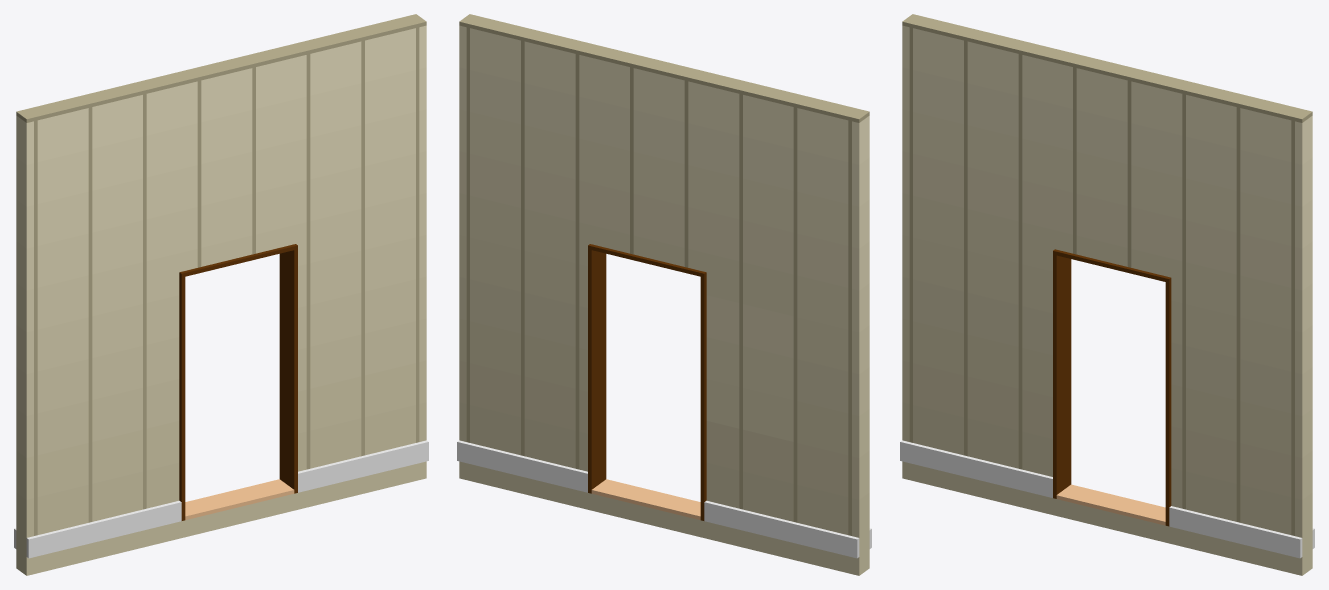
The model's file is wall32.obj.
The picture shows the model from 3 angles, left to right: view 1: azimuth 30°, elevation 25°; view 2: azimuth 150°, elevation 25°; view 3: azimuth 330°, elevation 25°; orthographic projection.
Size of the model in its own units: 11 by 12 by 0.7.
1 material, 1 textured.
